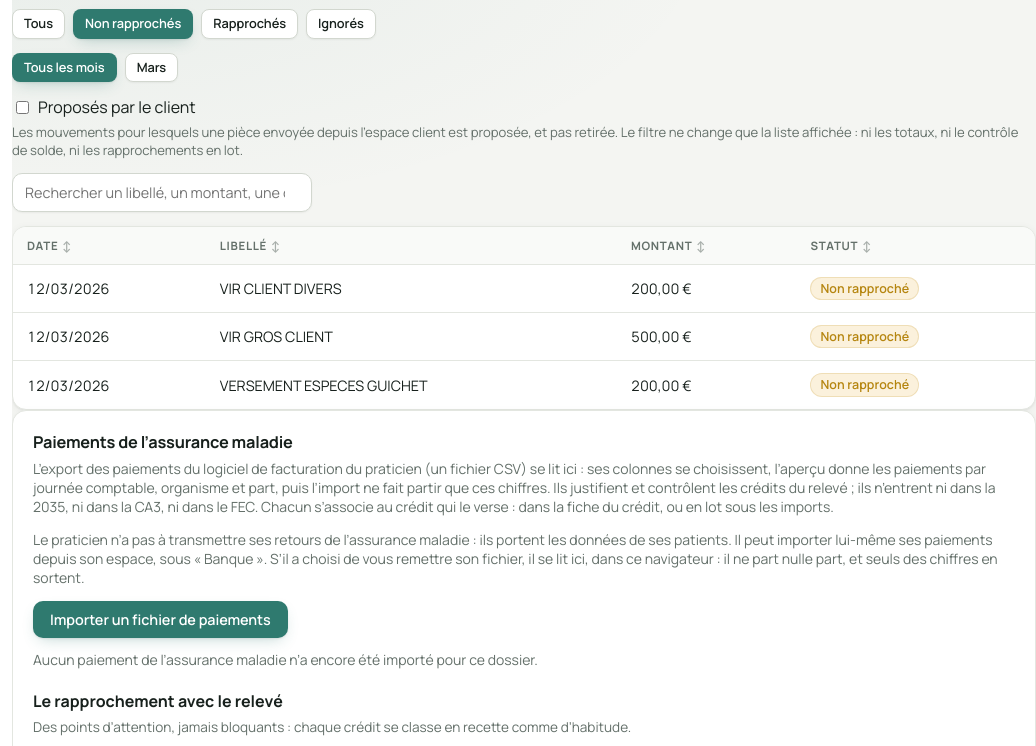
un crédit dont le libellé dit un versement d’espèces › le dit avant qu’on le range en recette, dans un dossier qui tient une caisse
The width and height of the screenshot is (1036, 746).
(page scrolled)
Click the row "12/03/2026 VERSEMENT ESPECES GUICHET 200,00 € Non rapproché" at point(68, 385), box [13,361,1035,409]
(page scrolled)
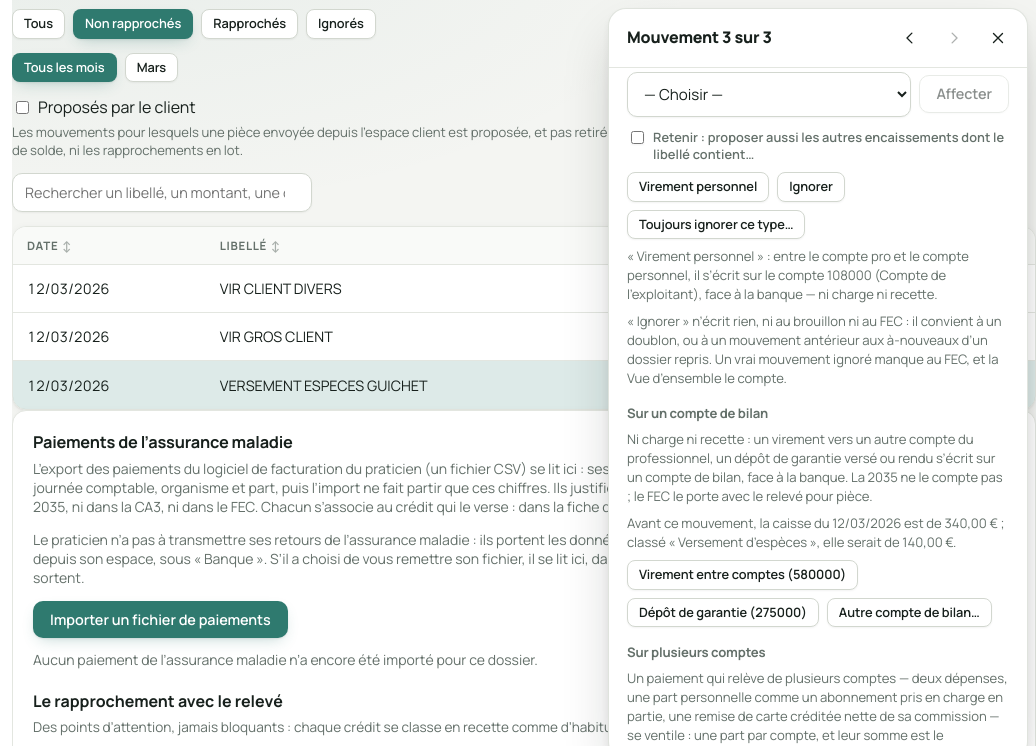
Expected: the heading "Sur un compte de bilan" is shown, [627,404,768,422]
